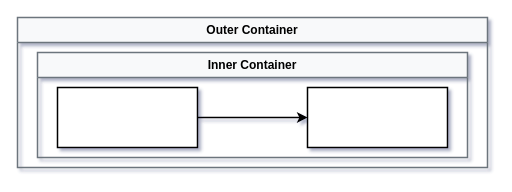
This 512x192 diagram has some shape labels left out. The shapes that lost their labels are listed below. From the top down, each one's centre as x and y in pixels, then its label:
At point (127, 117): "Node A".
At point (377, 117): "Node B".
